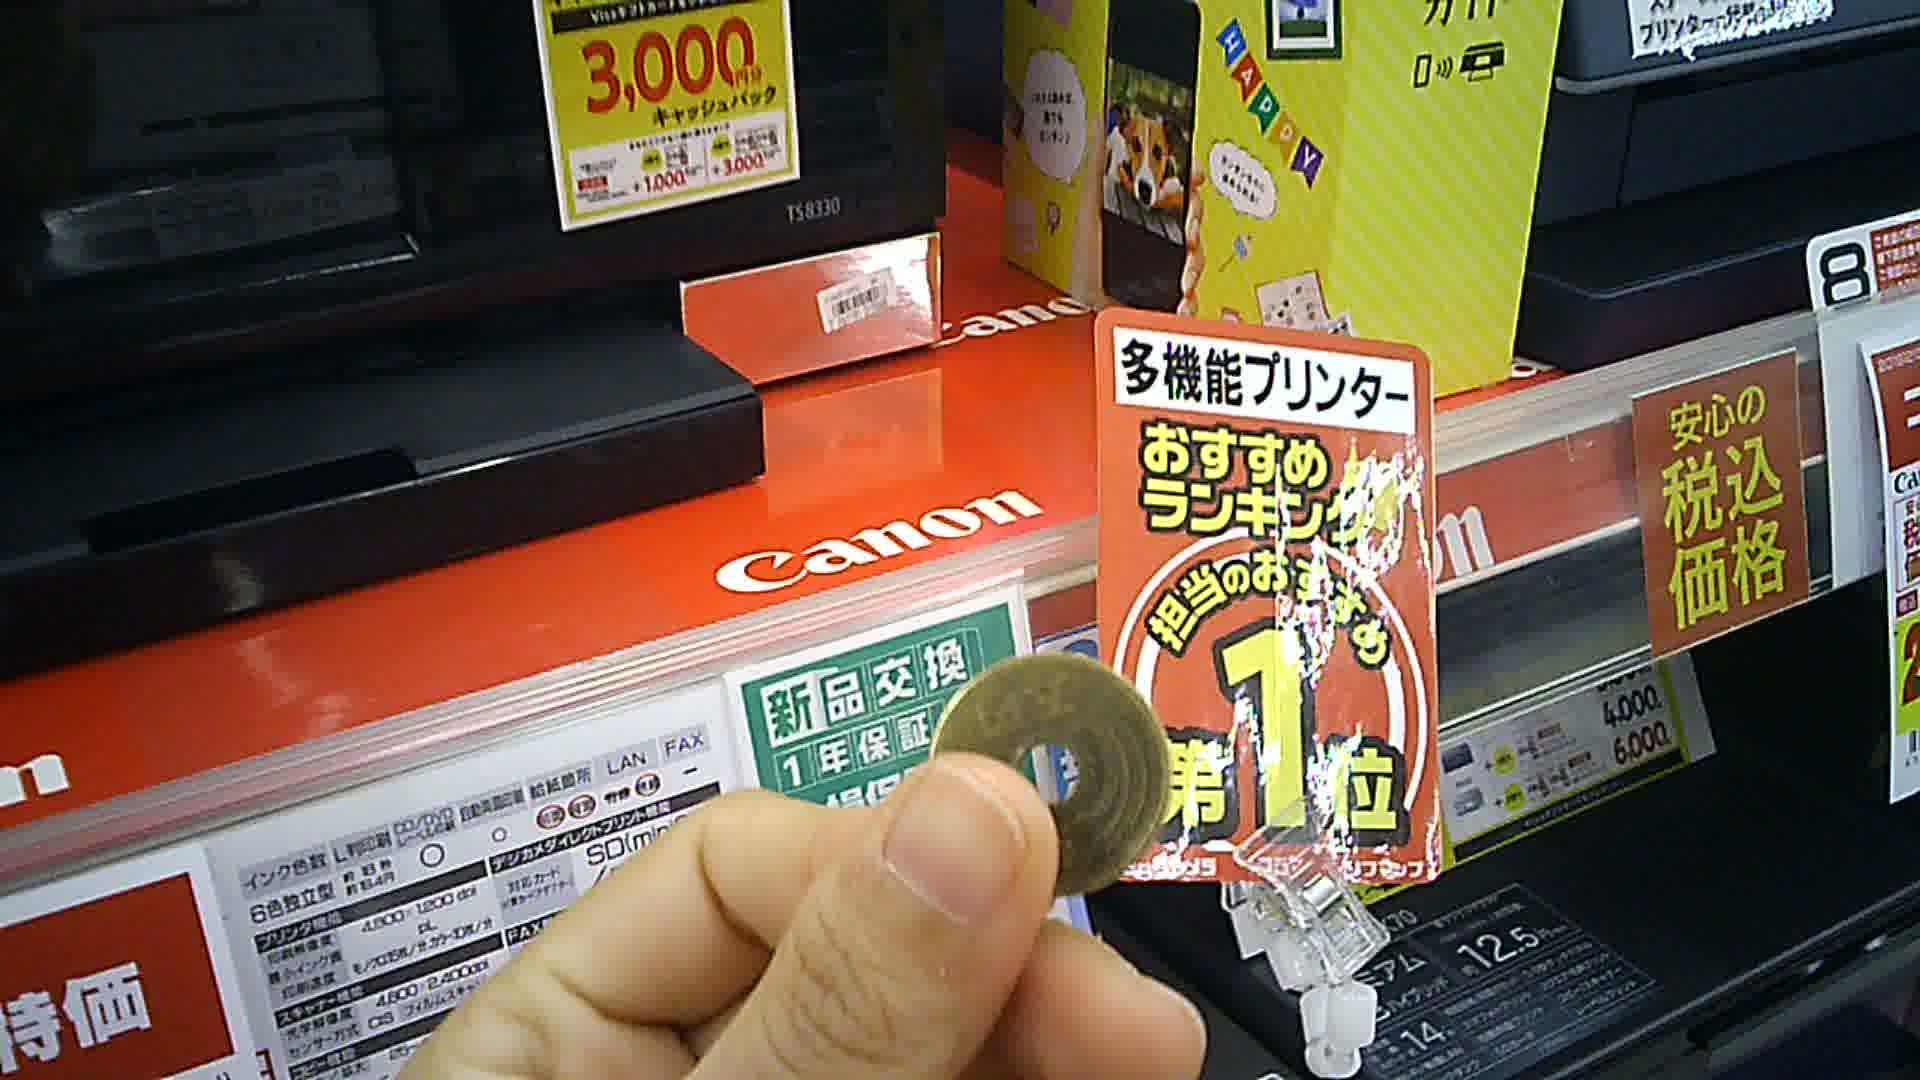5 Yen: (919, 651, 1175, 905)
